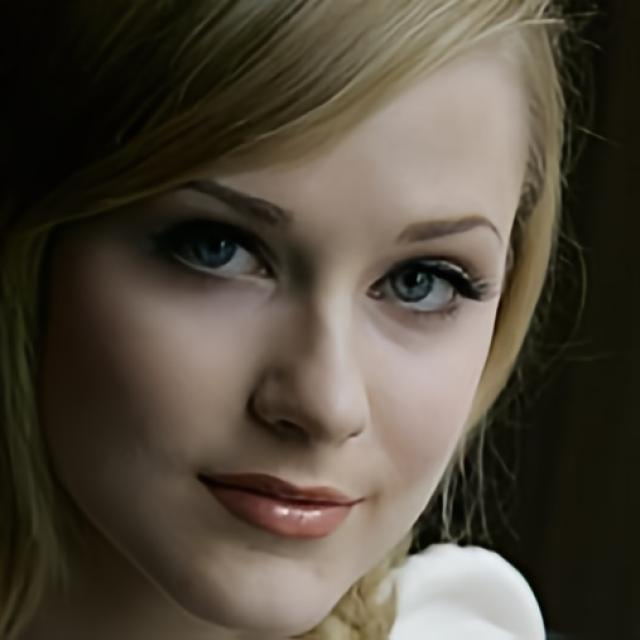content: (44, 25, 532, 636)
